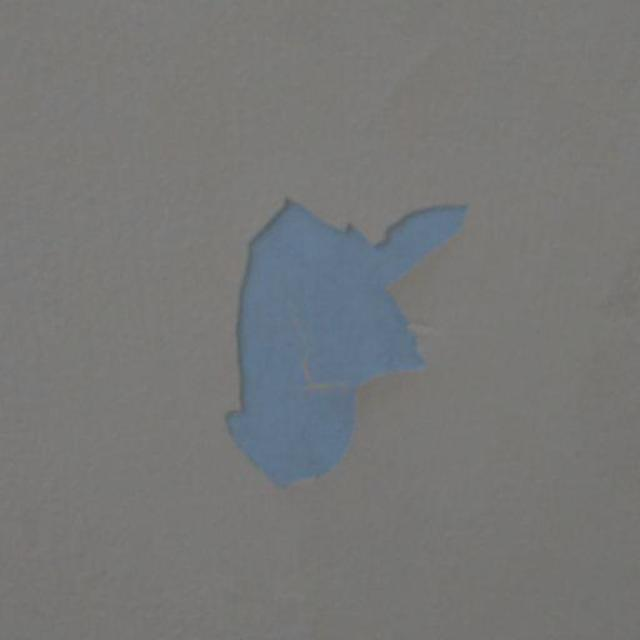wall_peeling: (223, 195, 469, 489)
